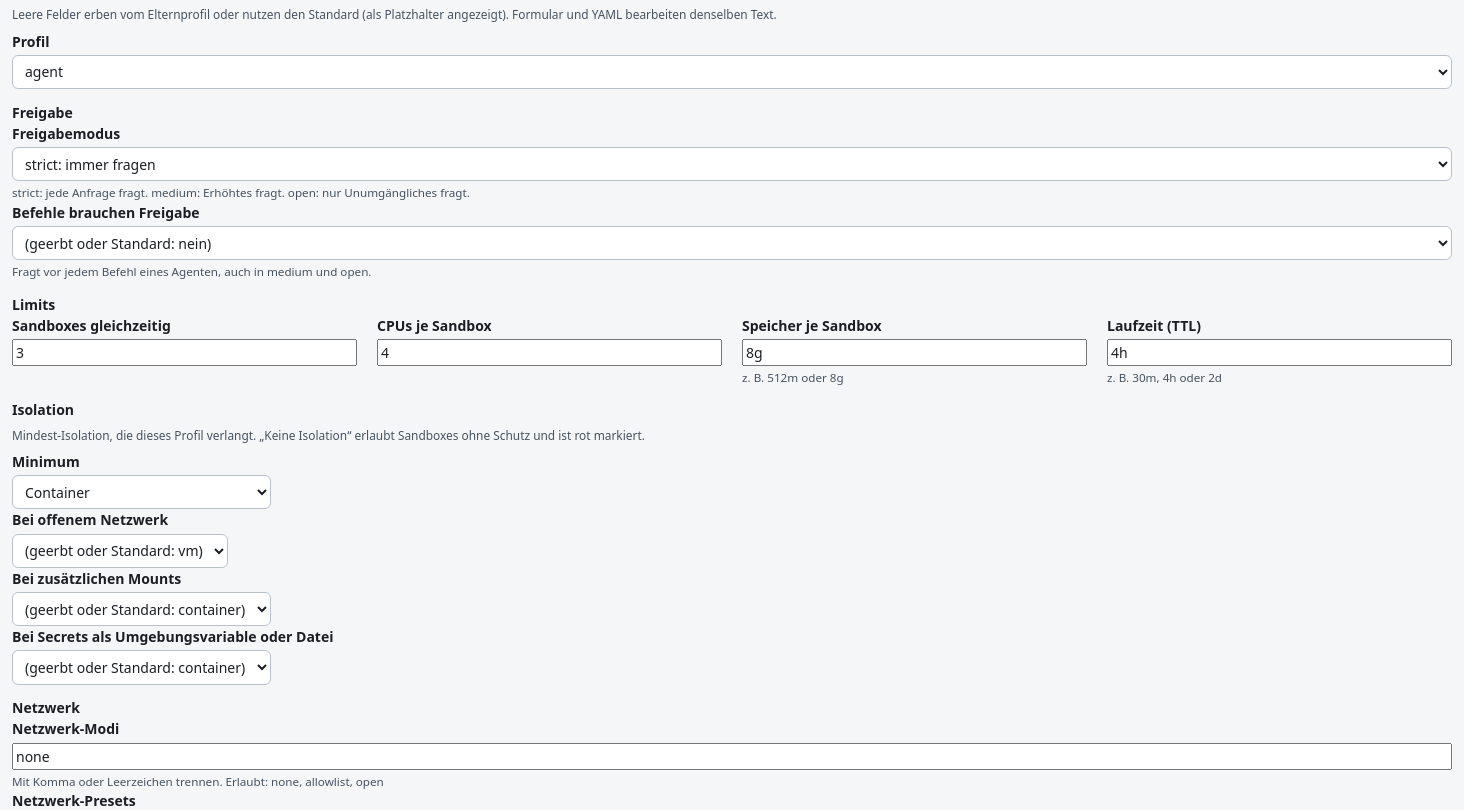
Test: PolicyForm › edits the policy text field by field and keeps the rest (comments, layout) as it was
This screenshot has width=1464, height=810.
Select "open: keine Rückfragen im Profil" in the dropdown labelled "Freigabemodus" at (732, 164), box [12,147,1452,181]
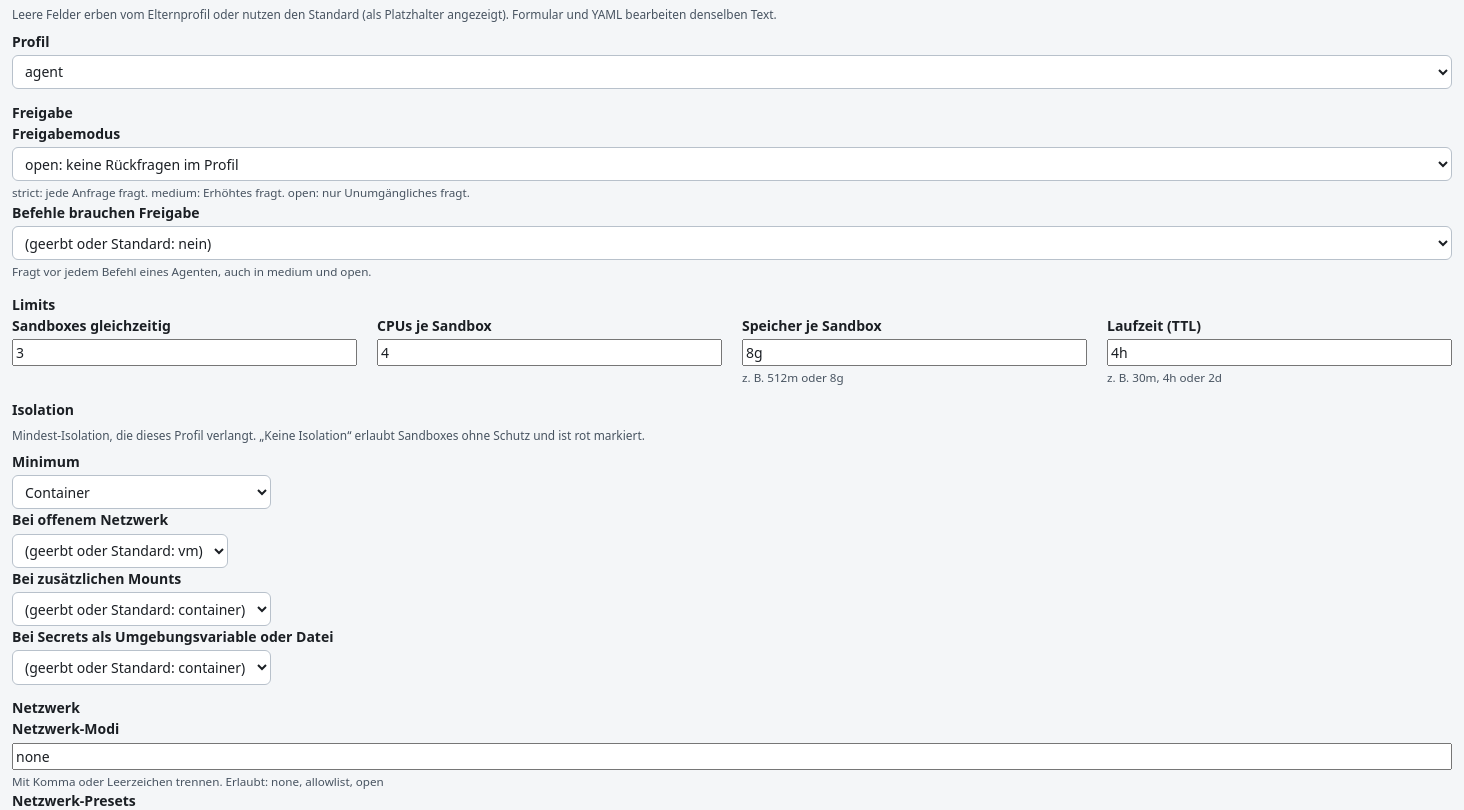
Type "4g" into the field labelled "Speicher je Sandbox".
click(914, 352); type("4g")  # box [742,339,1087,366]
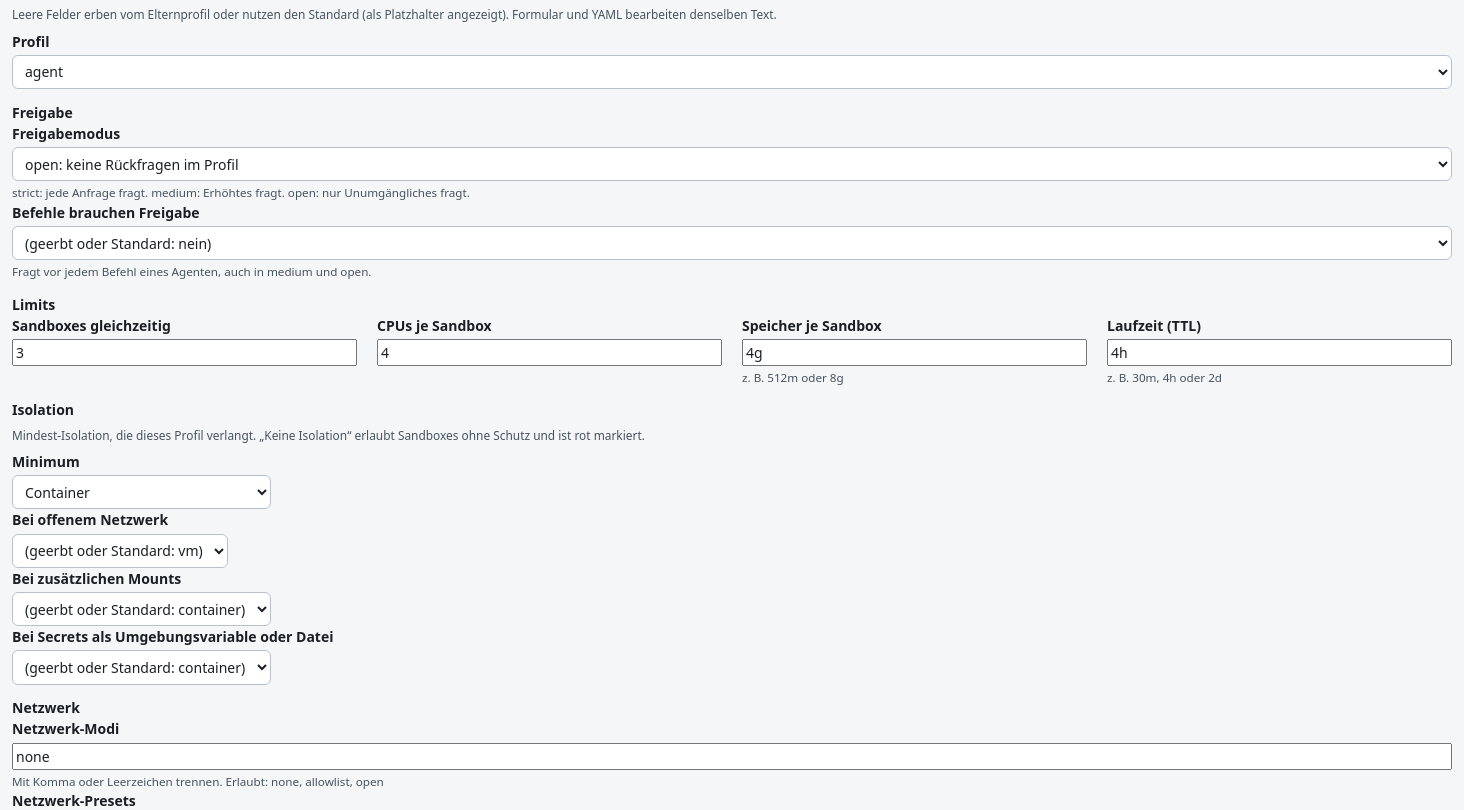
Type "10" into the field labelled "Sandboxes gleichzeitig".
click(184, 352); type("10")  # box [12,339,357,366]
(page scrolled)
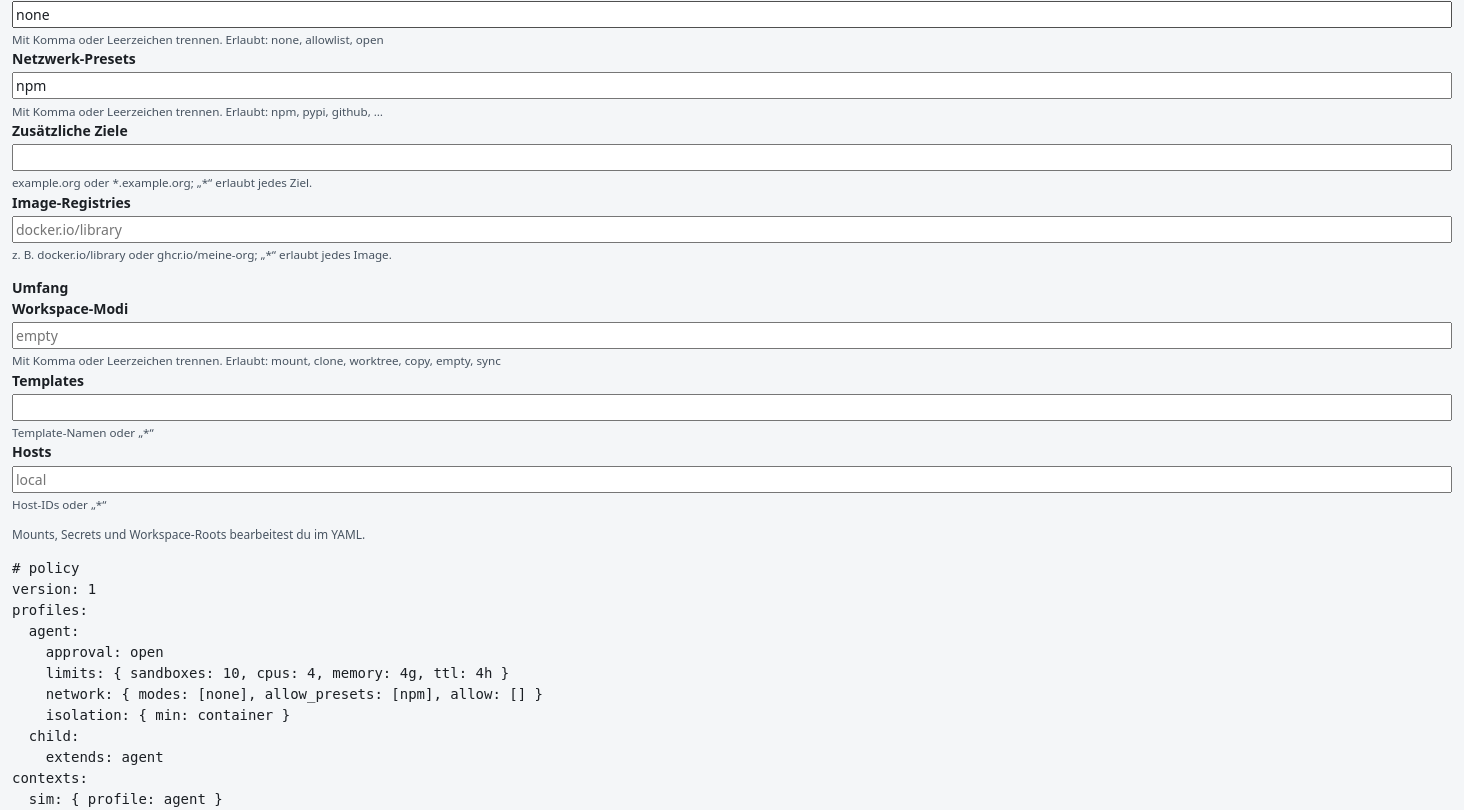
Expected: the text with test id "text" shows "# policy", [12,560,543,807]
Result: the text with test id "text" shows "sandboxes: 10" at [12,560,543,807]
